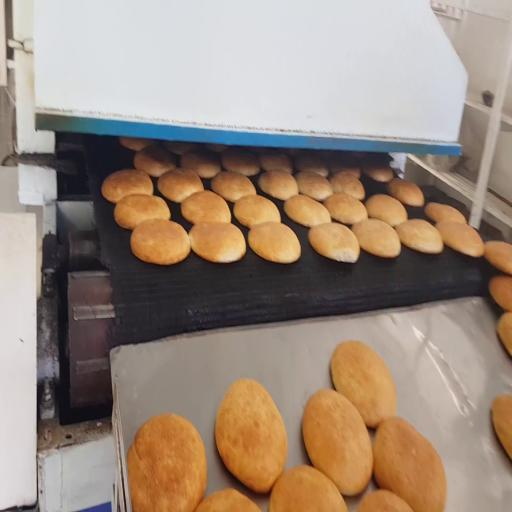bread: (215, 379, 287, 493), (127, 414, 206, 511), (303, 390, 373, 495), (374, 418, 446, 511), (331, 341, 396, 428), (269, 466, 347, 511), (131, 220, 190, 265), (189, 222, 246, 263), (248, 222, 301, 263), (309, 222, 359, 263), (114, 194, 170, 229), (352, 219, 401, 258), (436, 221, 484, 257), (102, 170, 153, 203), (395, 219, 443, 254), (181, 191, 231, 223), (158, 168, 203, 202), (284, 195, 330, 227), (234, 196, 280, 228), (324, 192, 367, 225), (196, 489, 260, 511), (211, 172, 256, 202), (134, 145, 176, 177), (366, 194, 407, 226), (492, 394, 511, 459), (358, 490, 413, 511), (259, 171, 298, 200), (181, 150, 220, 178), (296, 172, 333, 201), (387, 178, 424, 206), (222, 148, 259, 176), (330, 171, 365, 200), (425, 202, 466, 223), (485, 241, 511, 274), (295, 153, 328, 177), (489, 276, 511, 311), (259, 153, 292, 173), (497, 312, 511, 355), (119, 137, 153, 151), (330, 163, 361, 178), (364, 167, 393, 182), (163, 141, 194, 155), (206, 144, 227, 153)
